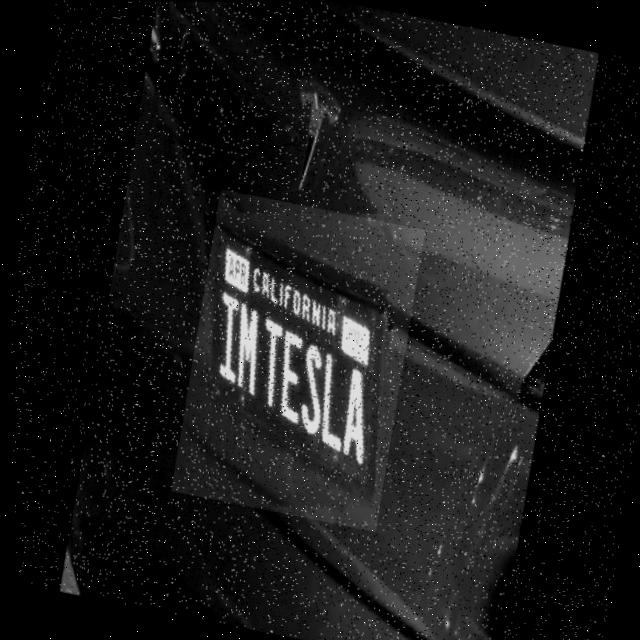LicensePlate: (161, 188, 431, 532)
